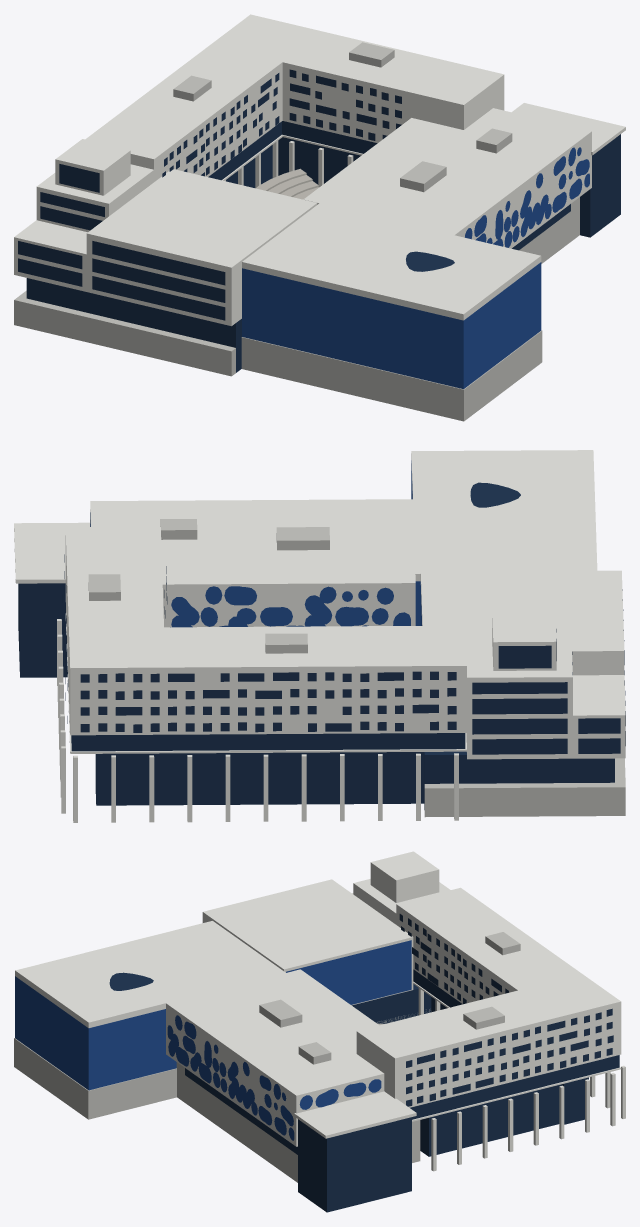
The model's file is akademiya_horeo.lod.glb.
The picture shows the model from 3 angles, top to bottom: view 1: azimuth 30°, elevation 25°; view 2: azimuth 150°, elevation 25°; view 3: azimuth 270°, elevation 25°; orthographic projection. The views are drawn at different scales.
Visible parts, largest first — view 1: akademiya_horeo_wall, akademiya_horeo_glass, akademiya_horeo_wall3, akademiya_horeo_wall2, akademiya_horeo_stone; view 2: akademiya_horeo_wall, akademiya_horeo_glass, akademiya_horeo_wall2, akademiya_horeo_wall3; view 3: akademiya_horeo_wall, akademiya_horeo_glass, akademiya_horeo_wall3, akademiya_horeo_wall2.
Boxes of the visible parts, x1,y1,x2,y2 form: akademiya_horeo_wall: [14, 14, 625, 326]; akademiya_horeo_glass: [18, 69, 620, 372]; akademiya_horeo_wall3: [242, 147, 589, 388]; akademiya_horeo_wall2: [14, 42, 579, 421]; akademiya_horeo_stone: [256, 168, 318, 199]; akademiya_horeo_wall: [14, 450, 625, 822]; akademiya_horeo_glass: [18, 482, 625, 809]; akademiya_horeo_wall2: [88, 519, 625, 817]; akademiya_horeo_wall3: [90, 460, 421, 627]; akademiya_horeo_wall: [15, 851, 625, 1171]; akademiya_horeo_glass: [109, 914, 619, 1212]; akademiya_horeo_wall3: [15, 940, 411, 1140]; akademiya_horeo_wall2: [14, 932, 520, 1182].
Size of the model in its own units: 143 by 35 by 146.
